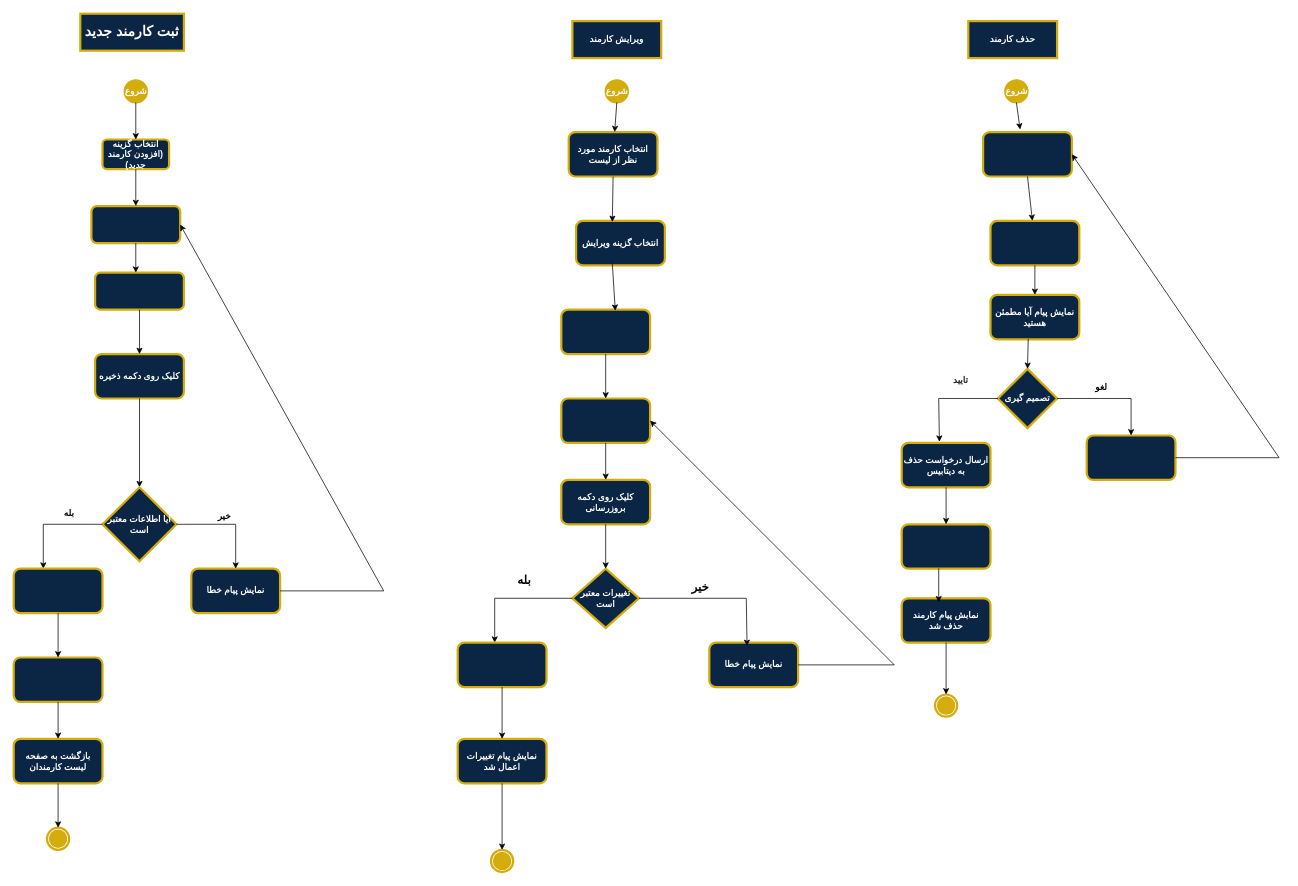
Image size: 1298x886. Some labels were removed from this diagram. Here are the shapes that lost their labels. From the top down, the box of each, then its label:
(982, 131, 1073, 177): انتخاب کامند مورد نظر از لیست
(90, 205, 181, 244): نمایش فرم ثبت نام (خالی)
(989, 219, 1080, 266): انتخاب گزینه حذف
(94, 271, 185, 310): وارد کردن اطلاعات
(560, 308, 651, 355): نمایش فرم ویرایش(با اطلاعات فعلی کارمند از دیتابیس)
(560, 397, 651, 444): تغییر مقادیر مورد نظر
(1085, 434, 1176, 481): بستن مدال
(900, 523, 991, 569): حذف نام کارمند از لیست نمایش داده شده
(12, 567, 103, 614): ارسال درخواست به سمت سرور
(12, 656, 103, 703): نمایش پیام کارمند با موفقیت ثبت شد
(456, 641, 547, 688): بروز رسانی اطلاعات سیستم
